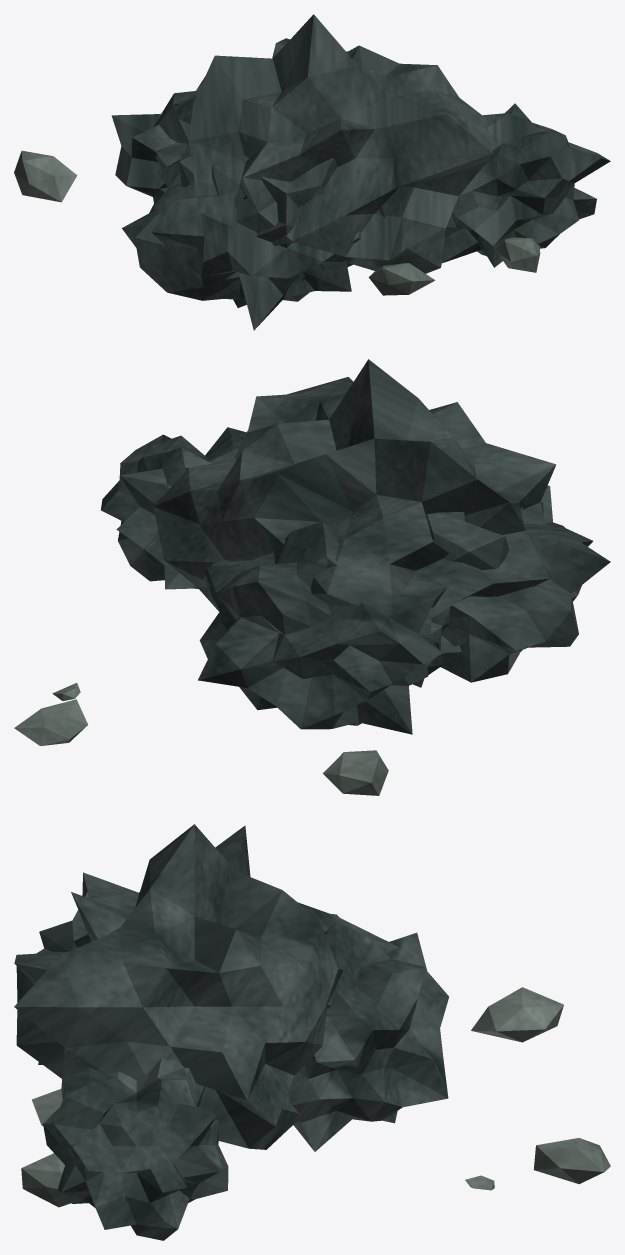
Rendered from 0002_boulder_02.glb.
The picture shows the model from 3 angles, top to bottom: view 1: azimuth 30°, elevation 25°; view 2: azimuth 150°, elevation 25°; view 3: azimuth 270°, elevation 25°; orthographic projection. The views are drawn at different scales.
Visible parts, largest first — view 1: stone_dark, stone; view 2: stone_dark, stone; view 3: stone_dark, stone.
Boxes of the visible parts, box(x1,y1,x2,y2) form: stone_dark: box(111, 14, 610, 330); stone: box(14, 150, 540, 295); stone_dark: box(101, 359, 610, 734); stone: box(14, 683, 388, 795); stone_dark: box(14, 824, 448, 1240); stone: box(21, 987, 610, 1207).
Bounding box in the file's own units: 2.44 × 1.45 × 2.46.
2 materials, 2 textured.
